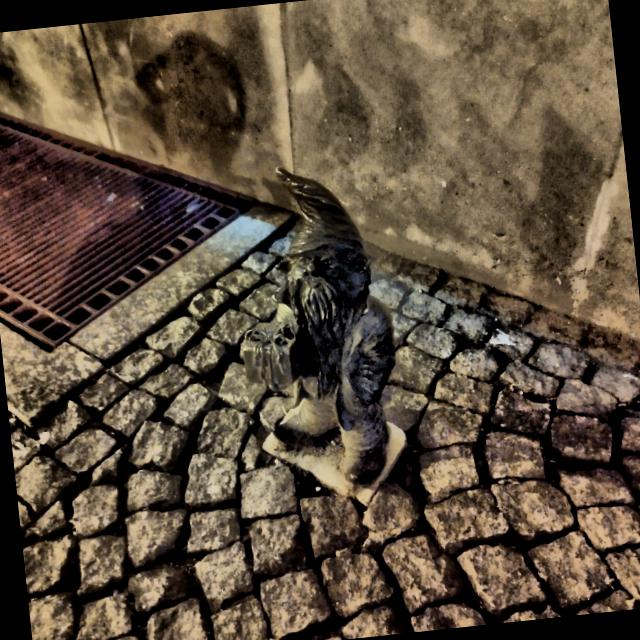Suvenirek: (239, 170, 407, 505)
